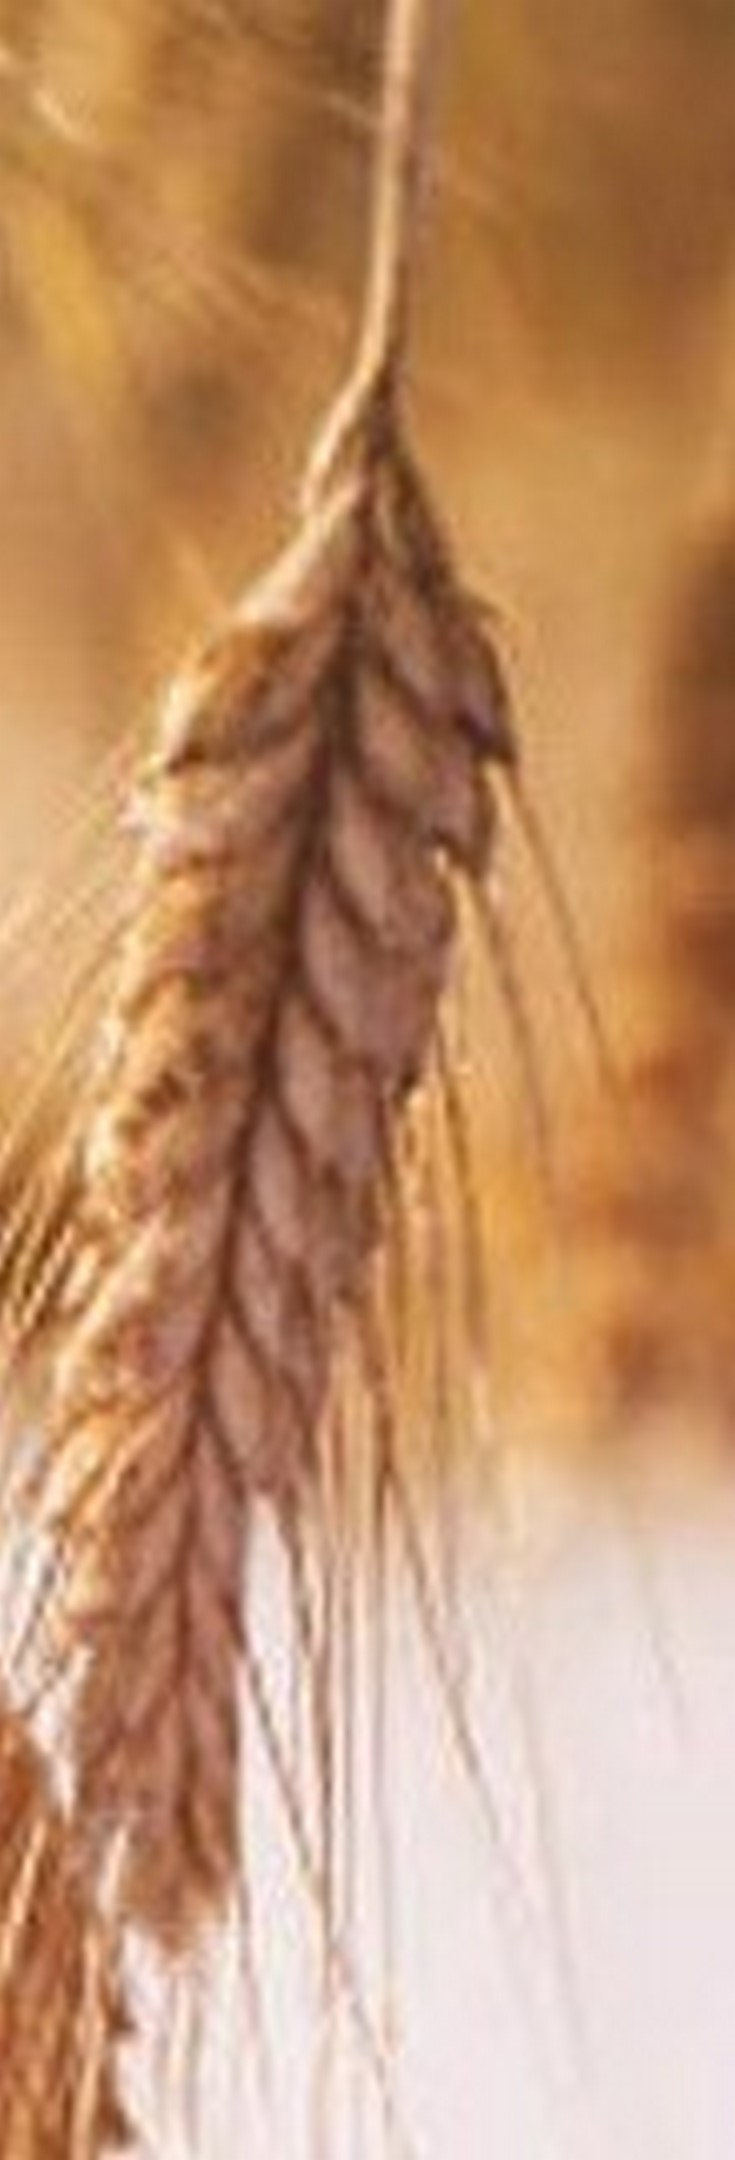Healthy Wheat: (1, 412, 529, 1942)
